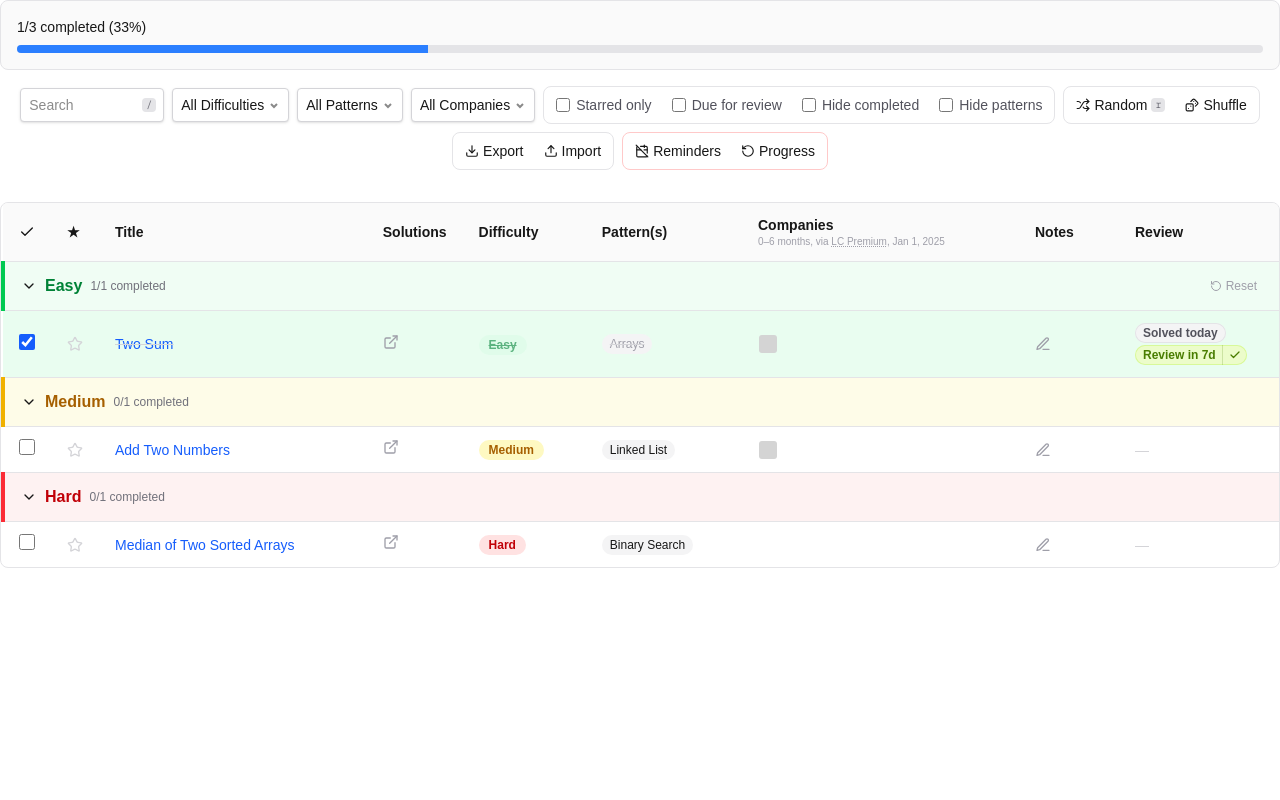
Test: QuestionsTable analytics › closes review modal when clicking close button
What coordinates should you click on to do the following:
click the button "Review in 7d"
I would click on:
 (1178, 355)
Its box is [1135, 345, 1222, 365].
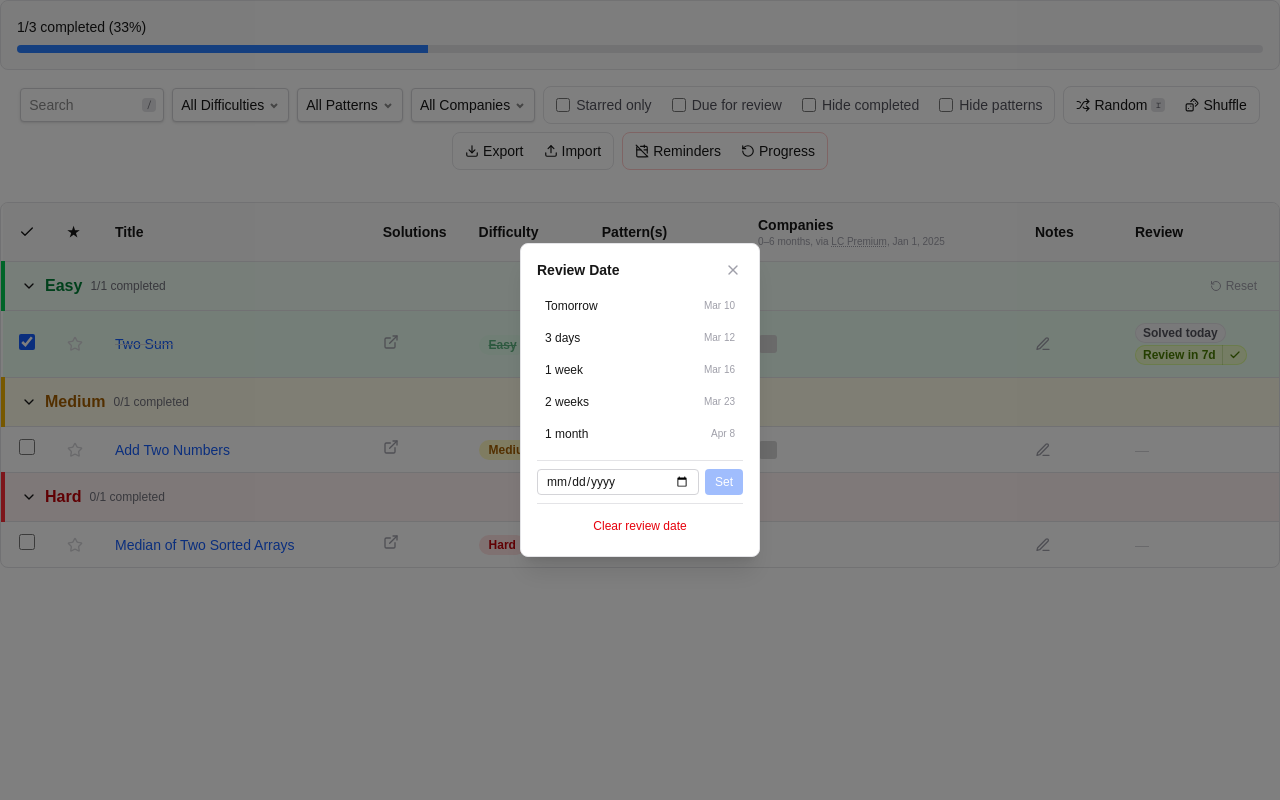
expect the dialog is shown: met
What coordinates should you click on to do the following:
click the button named "Close"
I would click on:
 (733, 270)
Its box is [723, 260, 743, 280].
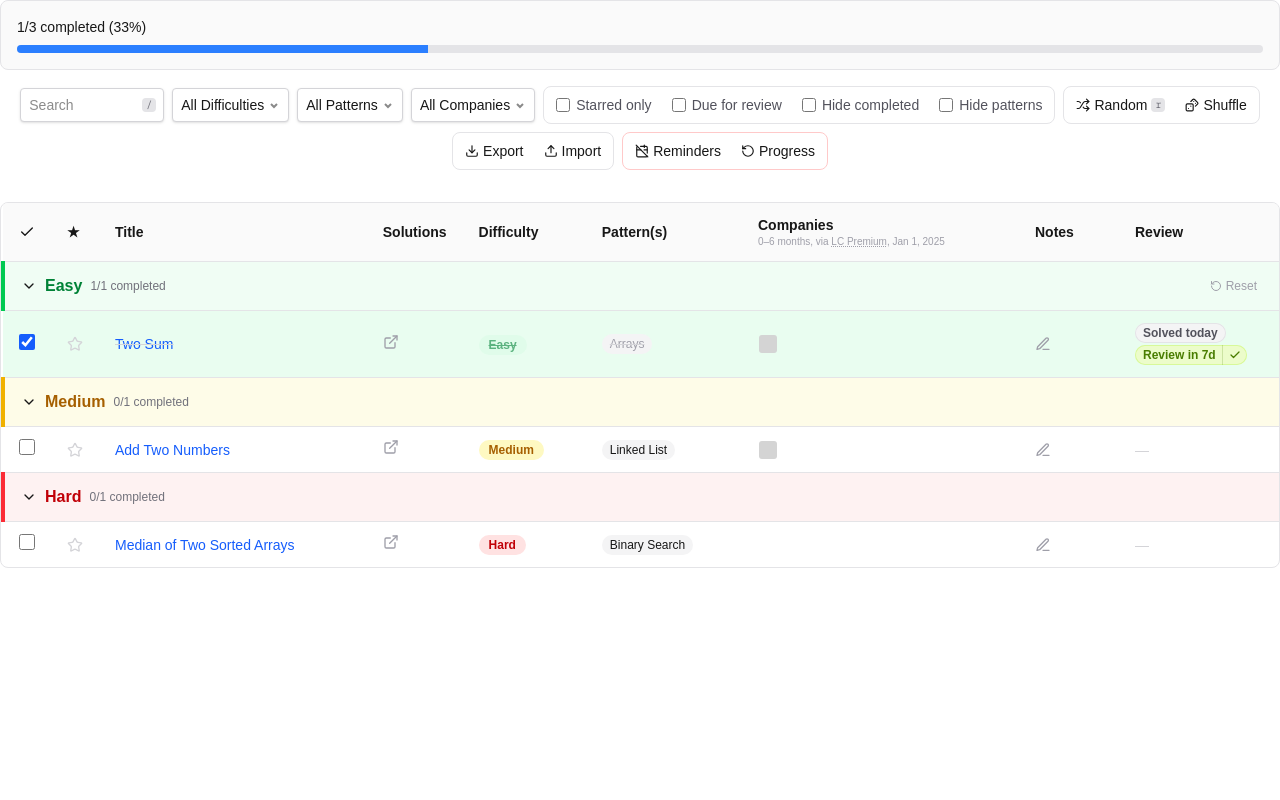
expect the dialog is gone: met
